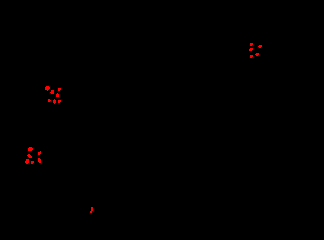Target: (45, 86, 50, 91), (28, 147, 33, 151), (27, 154, 32, 158), (25, 159, 29, 164), (90, 207, 93, 213), (50, 90, 54, 94), (53, 99, 56, 104), (38, 158, 41, 163), (258, 45, 262, 48), (249, 48, 253, 51), (255, 53, 259, 56), (56, 93, 59, 97), (38, 151, 41, 155), (250, 43, 253, 46), (250, 55, 253, 58), (58, 88, 61, 91), (48, 99, 51, 102), (58, 100, 61, 103), (31, 161, 34, 164)
